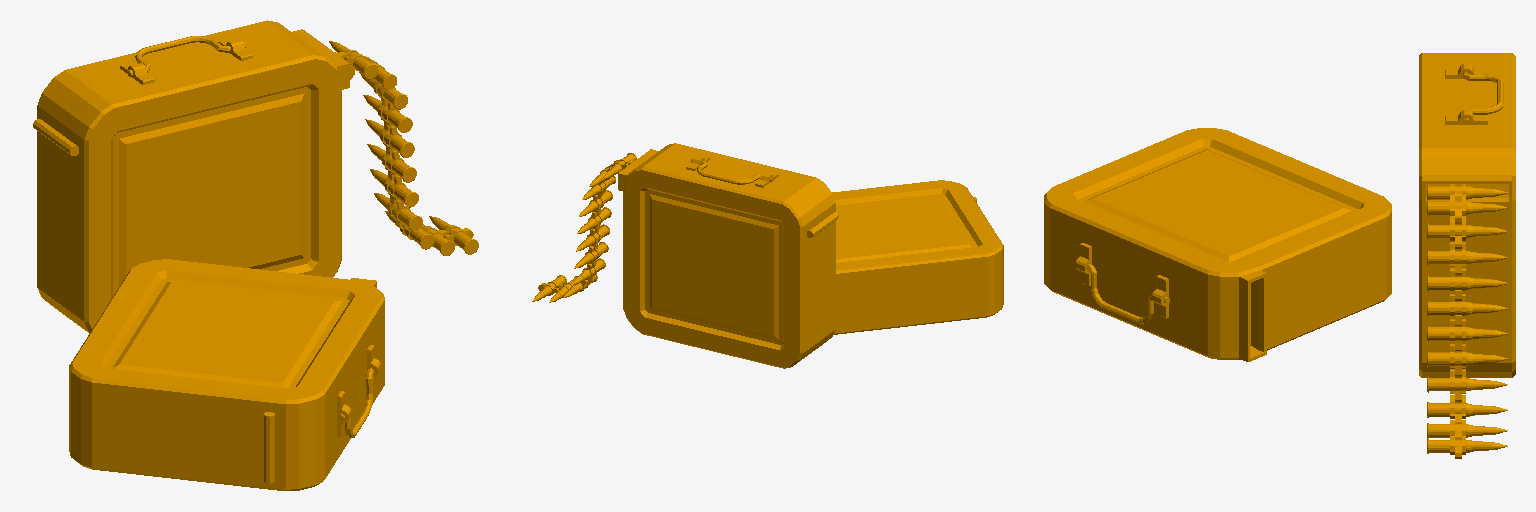
The robot description file, URDF, robot "cartridges":
<robot name="cartridges">
  <link name="cartridges">
    <inertial>
      <origin xyz="0 0 0.0145"/>
      <mass value="0.1" />
      <inertia  ixx="0.0001" ixy="0.0"  ixz="0.0"  iyy="0.0001"  iyz="0.0"  izz="0.0001" />
    </inertial>
    <visual>
      <origin xyz="0 0 0.0145"/>
      <geometry>        
     <mesh filename="cartridges.dae" scale="1 1 1"/>
    </geometry>
    </visual>
    <collision>
      <origin xyz="0 0 0.0145"/>
      <geometry>
        <box size="0.029 0.029 0.029"/>
      </geometry>
    </collision>
  </link>
  <gazebo reference="cartridges">
    <material>Gazebo/Blue</material>
  </gazebo>
</robot>

--- Facts derived from the render (not from the file) ---
Views: 3 orthographic renders of the robot side by side, from view 1: azimuth 30°, elevation 25°; view 2: azimuth 150°, elevation 25°; view 3: azimuth 270°, elevation 25°.
Robot: cartridges — 1 links, 0 joints (none); root link cartridges; default pose: every joint at zero.
Links seen in each view (by area): view 1: cartridges; view 2: cartridges; view 3: cartridges.
Boxes of the visible links, box(x1,y1,x2,y2) form: cartridges: box(33, 20, 478, 490); cartridges: box(532, 143, 1003, 368); cartridges: box(1044, 53, 1515, 458).
Size in the robot's own frame: 0.775 by 0.6263 by 0.3527 metres.
1 mesh visuals loaded from 1 distinct referenced files (1 Collada DAE).